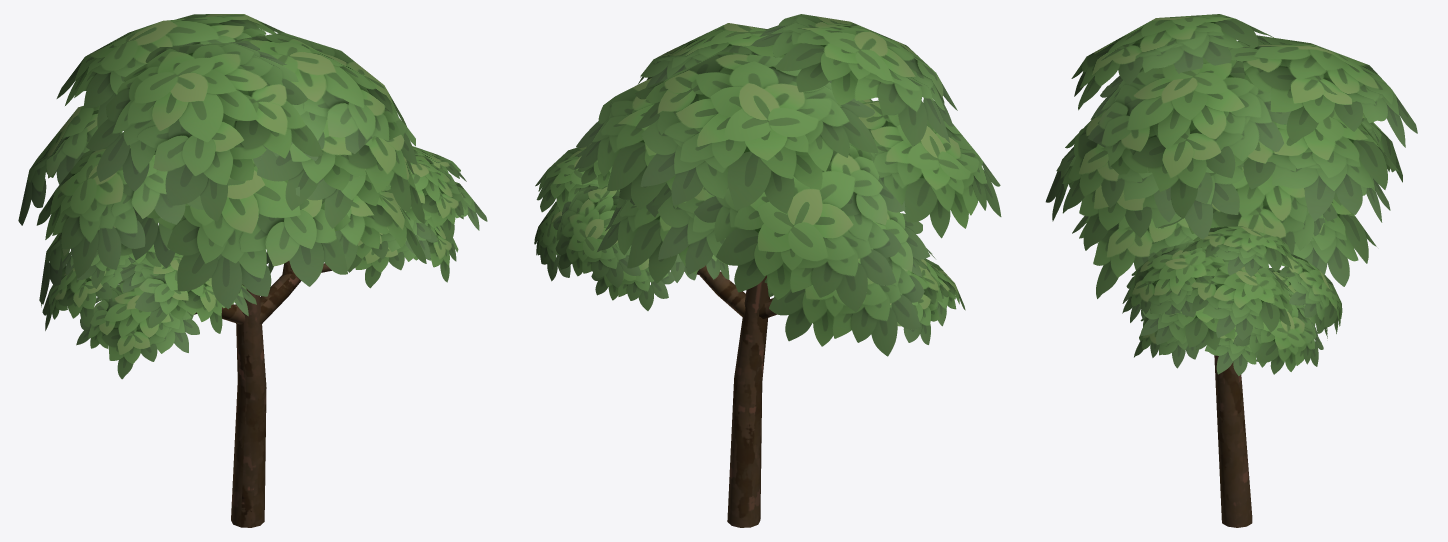
Rendered from textured_tree_7.glb.
3 renders of one model, left to right at view 1: azimuth 30°, elevation 25°; view 2: azimuth 150°, elevation 25°; view 3: azimuth 270°, elevation 25°, orthographic. The views are drawn at different scales.
Parts seen in each view (by area): view 1: Tree_7_Cylinder.000; view 2: Tree_7_Cylinder.000; view 3: Tree_7_Cylinder.000.
Part boxes in pixels (bbox=[...]): Tree_7_Cylinder.000: bbox=[18, 14, 487, 527]; Tree_7_Cylinder.000: bbox=[534, 14, 1001, 527]; Tree_7_Cylinder.000: bbox=[1045, 14, 1417, 527].
Size of the model in its own units: 9.46 by 10 by 7.63.
Materials: 2 (2 with a texture image).
